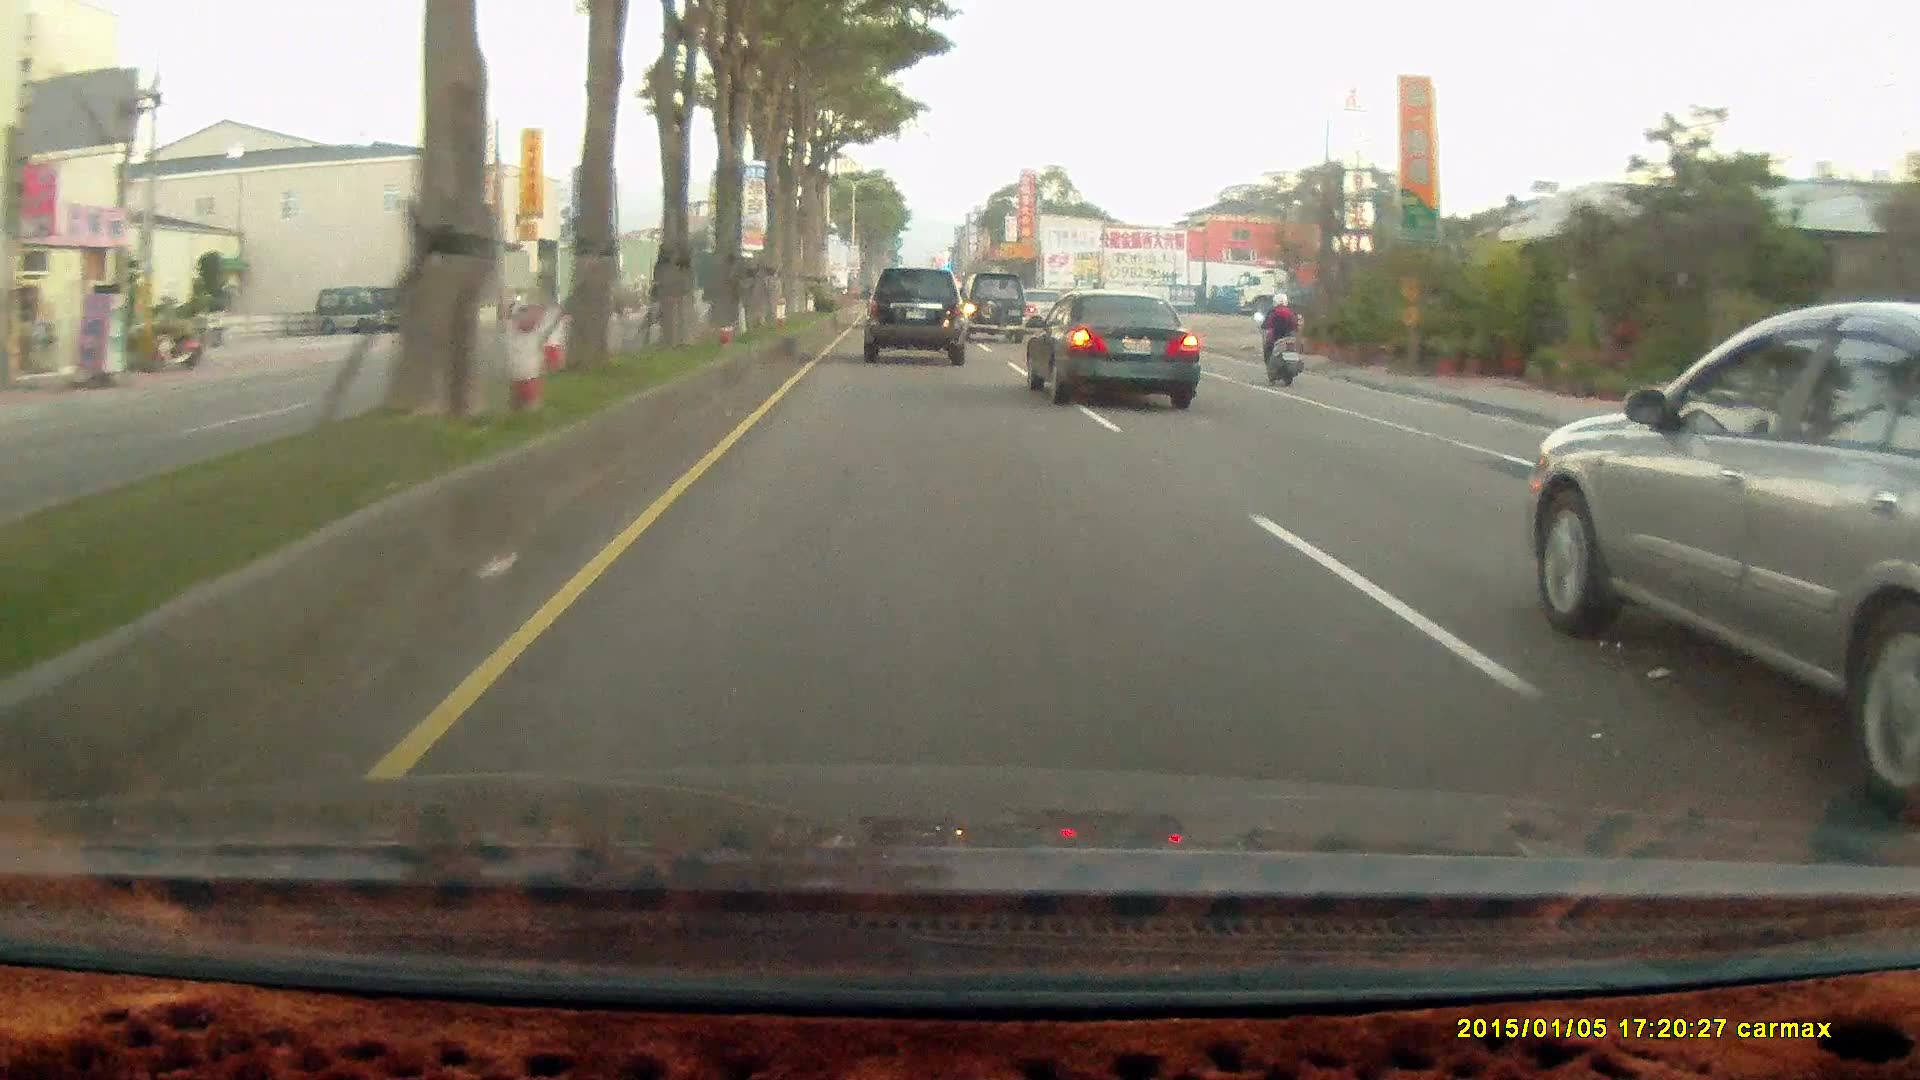rider: (1248, 284, 1314, 393), (1253, 288, 1303, 384)
vehicle: (1522, 293, 1918, 818), (1025, 287, 1200, 409), (1025, 287, 1205, 405), (1240, 266, 1457, 318), (861, 265, 972, 365), (861, 264, 966, 362), (312, 282, 418, 337), (956, 271, 1029, 346), (312, 286, 405, 334)
